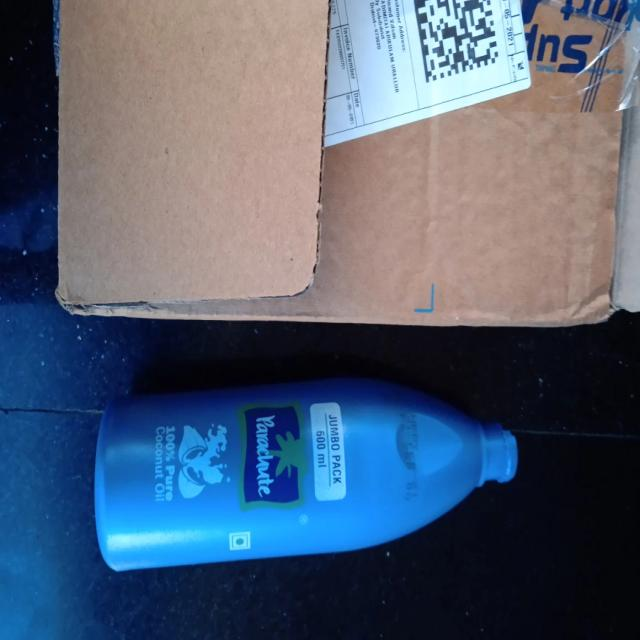parachute_oil: (70, 366, 530, 576)
